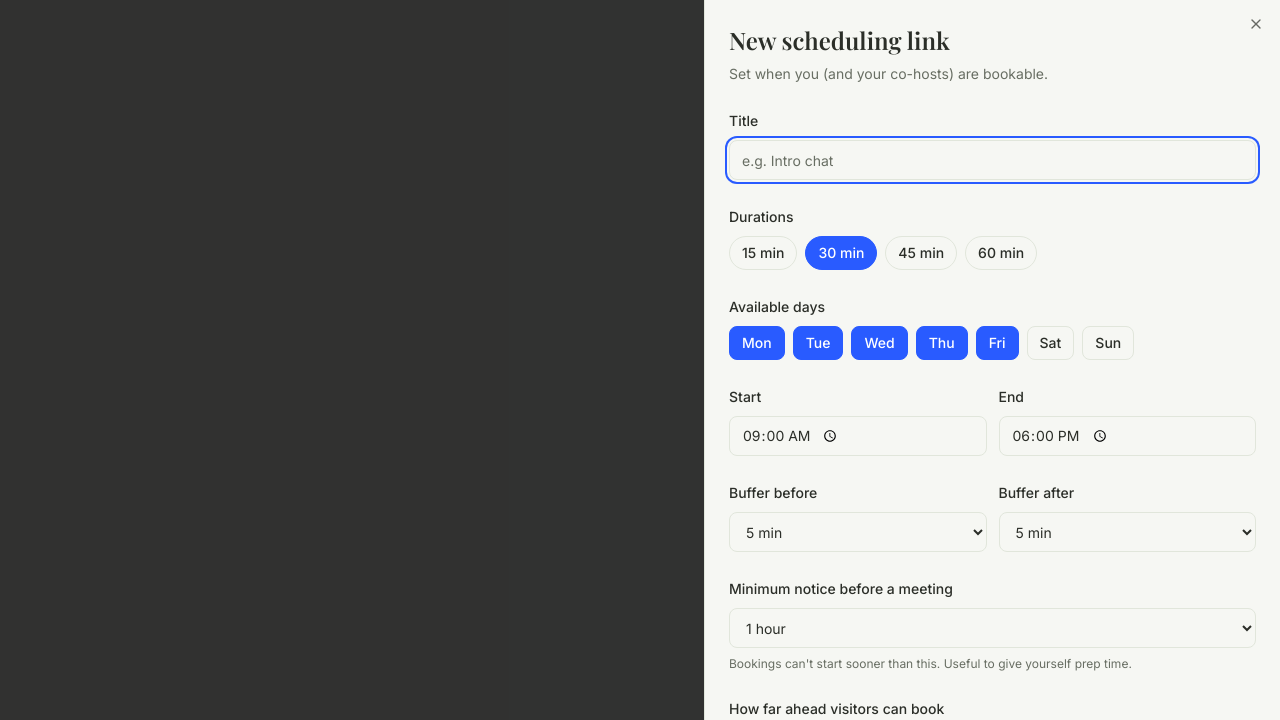
it: PAC-122 SF-052: the address in the link drawer › a new link claims no address before the server assigns one
In the field labelled "Title": (992, 160) [729, 140, 1256, 180], type "Intro call"
(page scrolled)
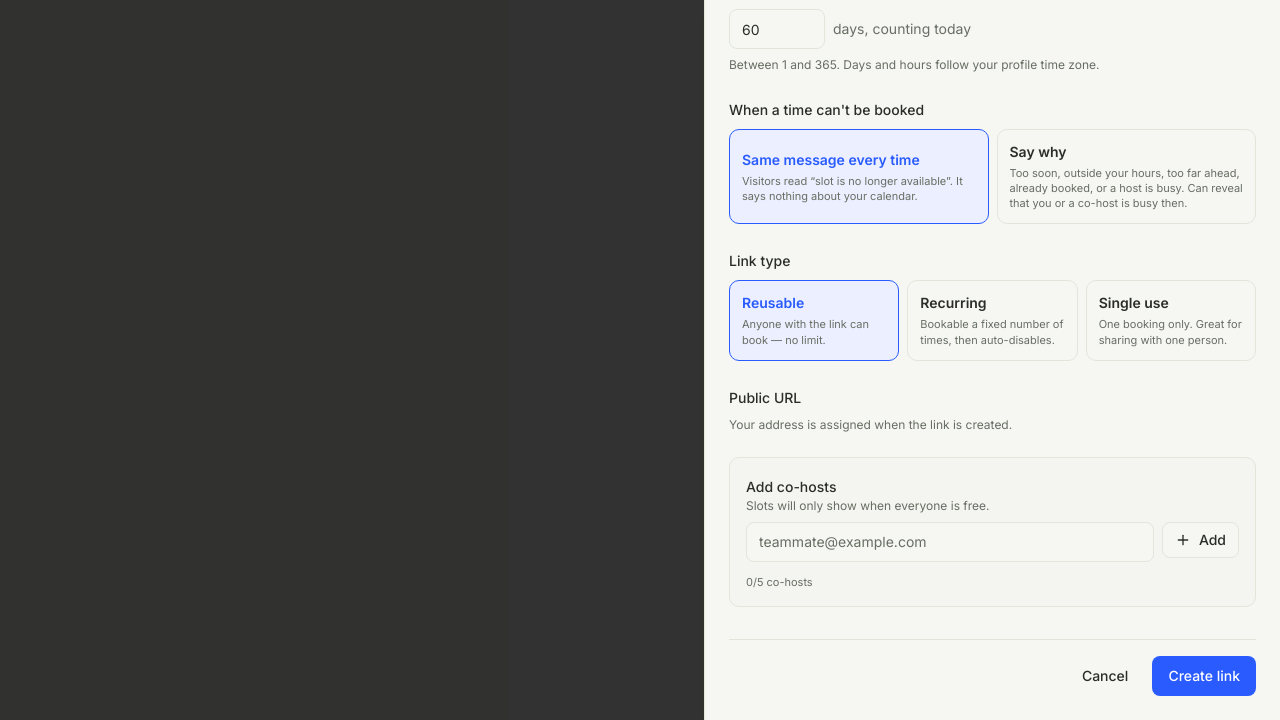
Now the text with test id "link-address-pending" reads "Your address is assigned when the link is created.", box [729, 417, 1012, 432]
